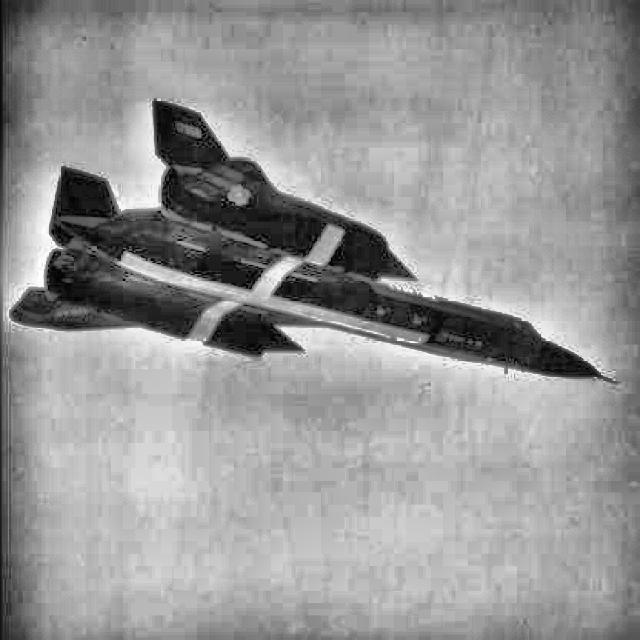SR71: (8, 98, 620, 384)
